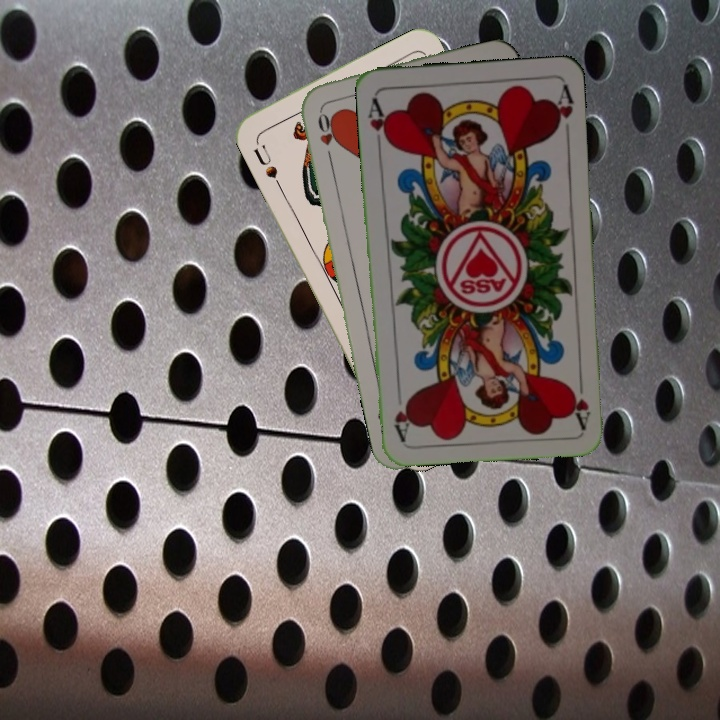HA: (364, 93, 393, 151), (566, 371, 593, 430)
HO: (313, 103, 338, 163)
SU: (249, 140, 284, 190)
